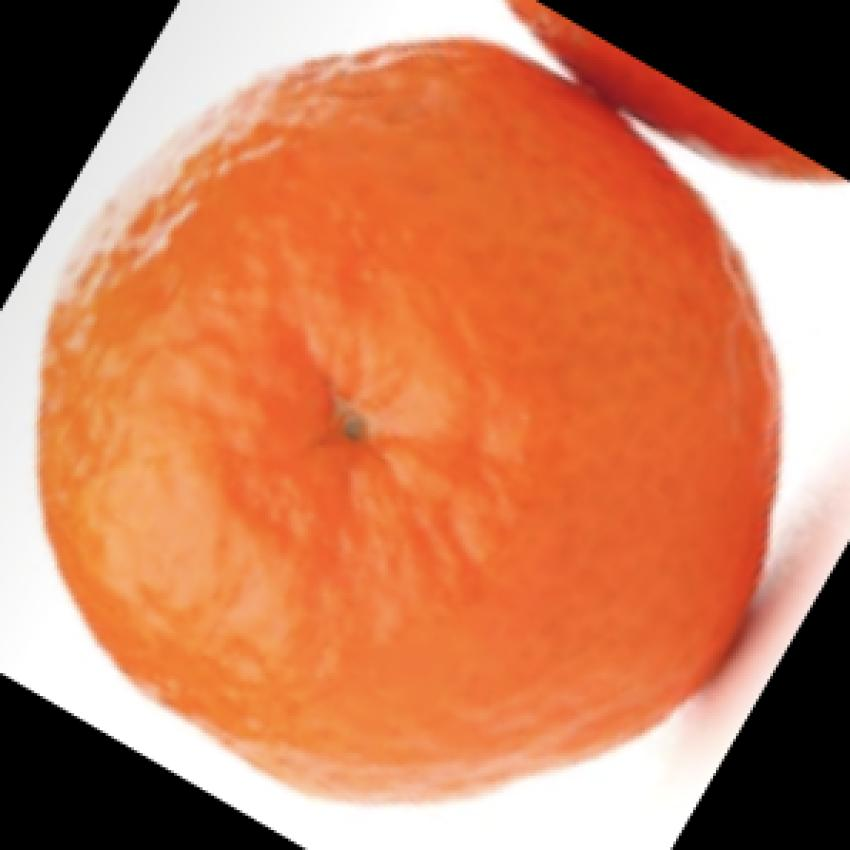Buen estado: (39, 19, 843, 817)
